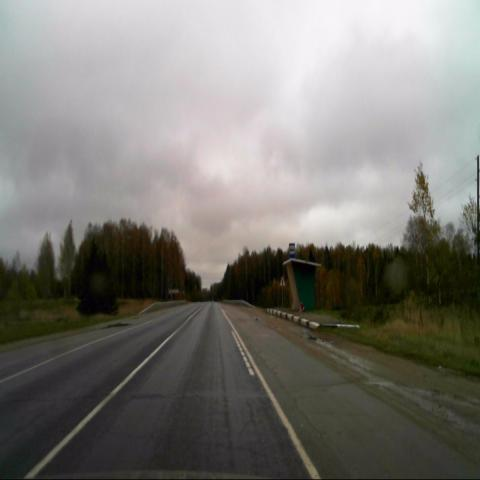5_16: (288, 242, 296, 258)
